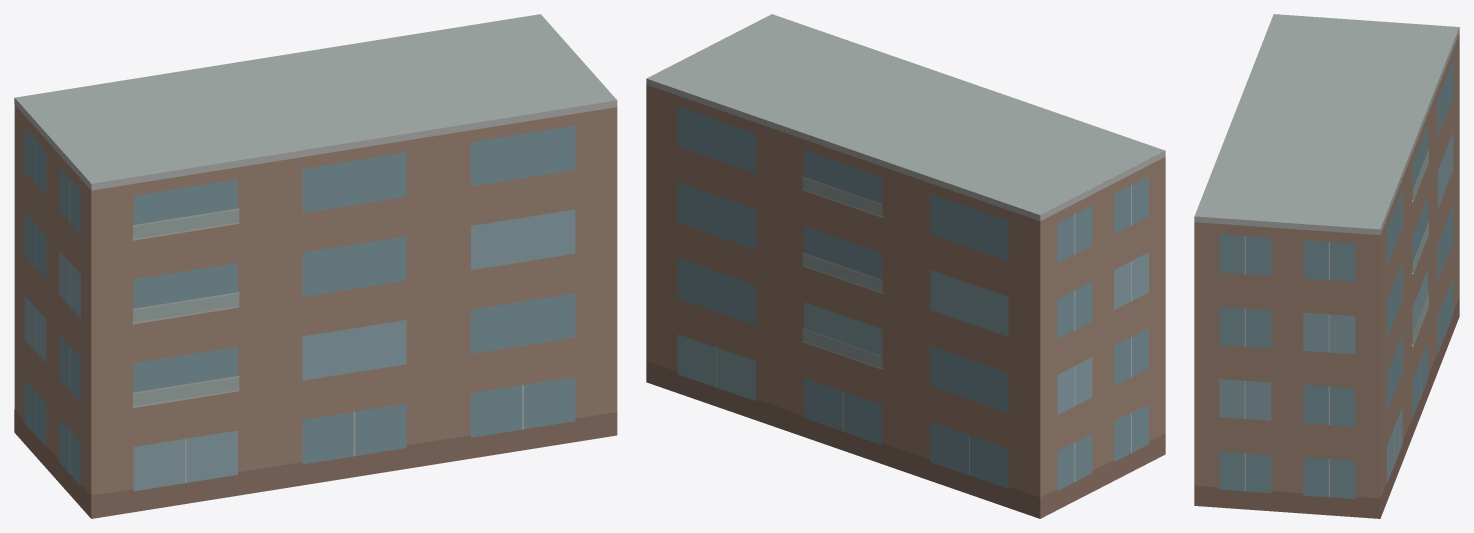
The model's file is residential-b56aa4e9-944c-4e8e-9c0b-28dc3bcc5d37.glb.
3 renders of one model, left to right at view 1: azimuth 30°, elevation 25°; view 2: azimuth 150°, elevation 25°; view 3: azimuth 270°, elevation 25°, orthographic. The views are drawn at different scales.
Parts seen in each view (by area): view 1: residential-b56aa4e9-944c-4e8e-9c0b-28dc3bcc5d37.tmp; view 2: residential-b56aa4e9-944c-4e8e-9c0b-28dc3bcc5d37.tmp; view 3: residential-b56aa4e9-944c-4e8e-9c0b-28dc3bcc5d37.tmp.
Part boxes in pixels (x1,y1,x2,y2): residential-b56aa4e9-944c-4e8e-9c0b-28dc3bcc5d37.tmp: (14, 14, 617, 518); residential-b56aa4e9-944c-4e8e-9c0b-28dc3bcc5d37.tmp: (646, 14, 1165, 518); residential-b56aa4e9-944c-4e8e-9c0b-28dc3bcc5d37.tmp: (1194, 14, 1459, 518).
Size of the model in its own units: 19.49 by 12.2 by 10.14.
